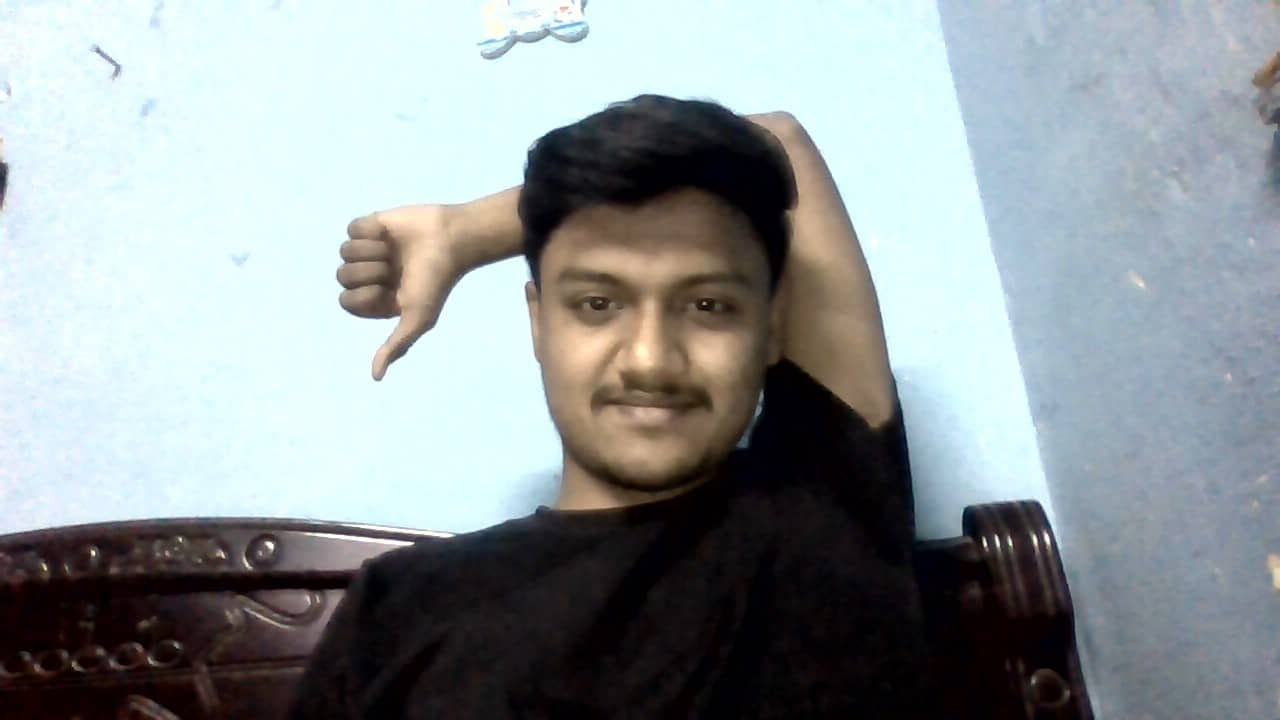hand: (333, 203, 464, 386)
